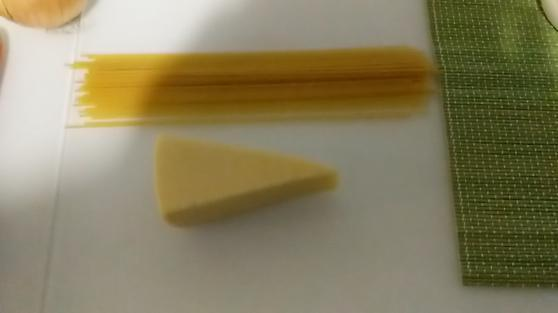cheese: (146, 128, 358, 220)
spaghetti: (50, 41, 458, 137)
